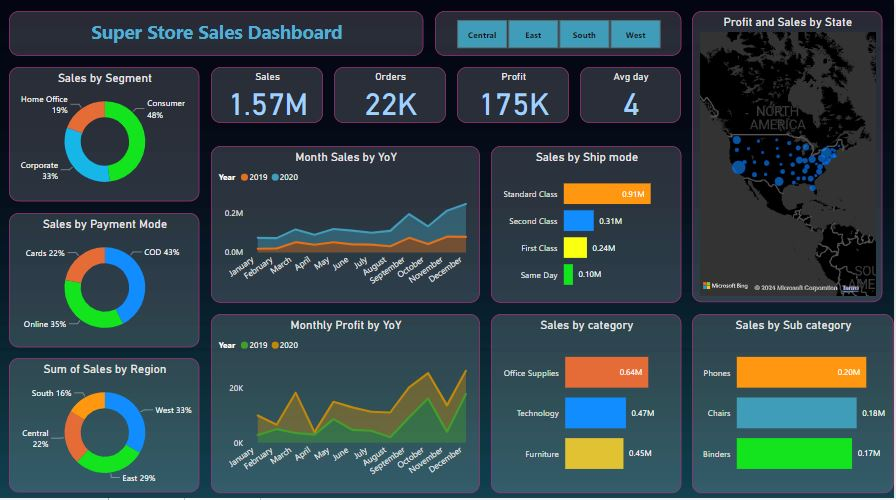

The page's visual inventory and layout, read from the dashboard file:
{"tool":"powerbi","page":{"name":"Page 1","canvas":[1280,720],"ordinal":0},"visuals":[{"type":"clusteredBarChart","title":" Sales by category","fields":{"Category":["Sheet1.Category"],"Y":["Sum(Sheet1.Sales)"]},"box":[704,448,272,256],"z":0},{"type":"clusteredBarChart","title":"Sales by Sub category","fields":{"Y":["Sum(Sheet1.Sales)"],"Category":["Sheet1.Sub-Category"]},"box":[992,448,288,256],"z":1000},{"type":"clusteredBarChart","title":" Sales by Ship mode","fields":{"Y":["Sum(Sheet1.Sales)"],"Category":["Sheet1.Ship Mode"]},"box":[704,208,272,224],"z":2000},{"type":"stackedAreaChart","title":"Month Sales by YoY","fields":{"Y":["Sum(Sheet1.Sales)"],"Category":["Sheet1.Order Date.Variation.Date Hierarchy.Month","Sheet1.Order Date.Variation.Date Hierarchy.Day"],"Series":["Sheet1.Order Date.Variation.Date Hierarchy.Year"]},"box":[304,208,384,224],"z":3000},{"type":"stackedAreaChart","title":"Monthly Profit by YoY","fields":{"Category":["Sheet1.Order Date.Variation.Date Hierarchy.Month","Sheet1.Order Date.Variation.Date Hierarchy.Day"],"Series":["Sheet1.Order Date.Variation.Date Hierarchy.Year"],"Y":["Sum(Sheet1.Profit)"]},"box":[304,448,384,256],"z":4000},{"type":"map","title":"Profit and Sales by State","fields":{"Category":["Sheet1.State"],"Size":["Sum(Sheet1.Sales)"]},"box":[992,16,272,416],"z":5000},{"type":"donutChart","title":"Sales by Segment","fields":{"Category":["Sheet1.Segment"],"Y":["Sum(Sheet1.Sales)"]},"box":[16,96,272,192],"z":6000},{"type":"donutChart","title":"Sales by Payment Mode","fields":{"Y":["Sum(Sheet1.Sales)"],"Category":["Sheet1.Payment Mode"]},"box":[16,304,272,192],"z":7000},{"type":"donutChart","fields":{"Y":["Sum(Sheet1.Sales)"],"Category":["Sheet1.Region"]},"box":[16,512,272,192],"z":8000},{"type":"slicer","fields":{"Values":["Sheet1.Region"]},"box":[624,16,352,64],"z":9000},{"type":"textbox","box":[16,16,592,64],"z":10000},{"type":"card","title":"Sales","fields":{"Values":["Sum(Sheet1.Sales)"]},"box":[304,96,160,80],"z":11000},{"type":"card","title":"Orders","fields":{"Values":["Sum(Sheet1.Quantity)"]},"box":[480,96,160,80],"z":12000},{"type":"card","title":"Profit","fields":{"Values":["Sum(Sheet1.Profit)"]},"box":[656,96,160,80],"z":13000},{"type":"card","title":"Avg day","fields":{"Values":["Avg(Sheet1.AvgDelivery)"]},"box":[832,96,144,80],"z":14000}]}

Visuals, with their boxes in screenshot pixels (x1, y1, x2, y2), scaled from the page's 1280x720 canvas onto the 896x500 screenshot:
" Sales by category" clusteredBarChart: (left=493, top=311, right=683, bottom=489)
"Sales by Sub category" clusteredBarChart: (left=694, top=311, right=895, bottom=489)
" Sales by Ship mode" clusteredBarChart: (left=493, top=144, right=683, bottom=300)
"Month Sales by YoY" stackedAreaChart: (left=213, top=144, right=482, bottom=300)
"Monthly Profit by YoY" stackedAreaChart: (left=213, top=311, right=482, bottom=489)
"Profit and Sales by State" map: (left=694, top=11, right=885, bottom=300)
"Sales by Segment" donutChart: (left=11, top=67, right=202, bottom=200)
"Sales by Payment Mode" donutChart: (left=11, top=211, right=202, bottom=344)
donutChart - Sum(Sheet1.Sales) x Sheet1.Region: (left=11, top=356, right=202, bottom=489)
slicer - Sheet1.Region: (left=437, top=11, right=683, bottom=56)
textbox: (left=11, top=11, right=426, bottom=56)
"Sales" card: (left=213, top=67, right=325, bottom=122)
"Orders" card: (left=336, top=67, right=448, bottom=122)
"Profit" card: (left=459, top=67, right=571, bottom=122)
"Avg day" card: (left=582, top=67, right=683, bottom=122)
